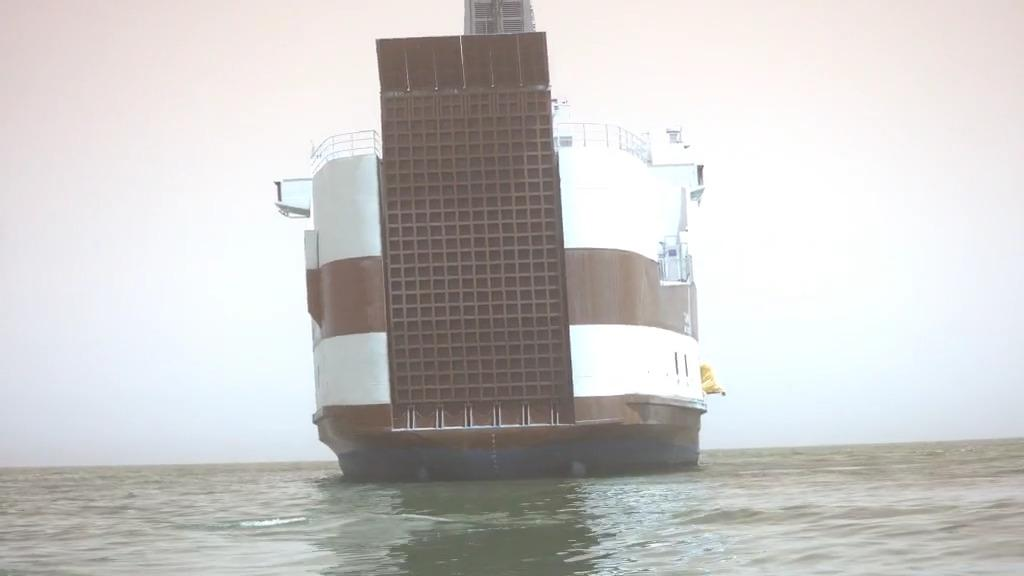PassengerShip: (266, 0, 730, 486)
